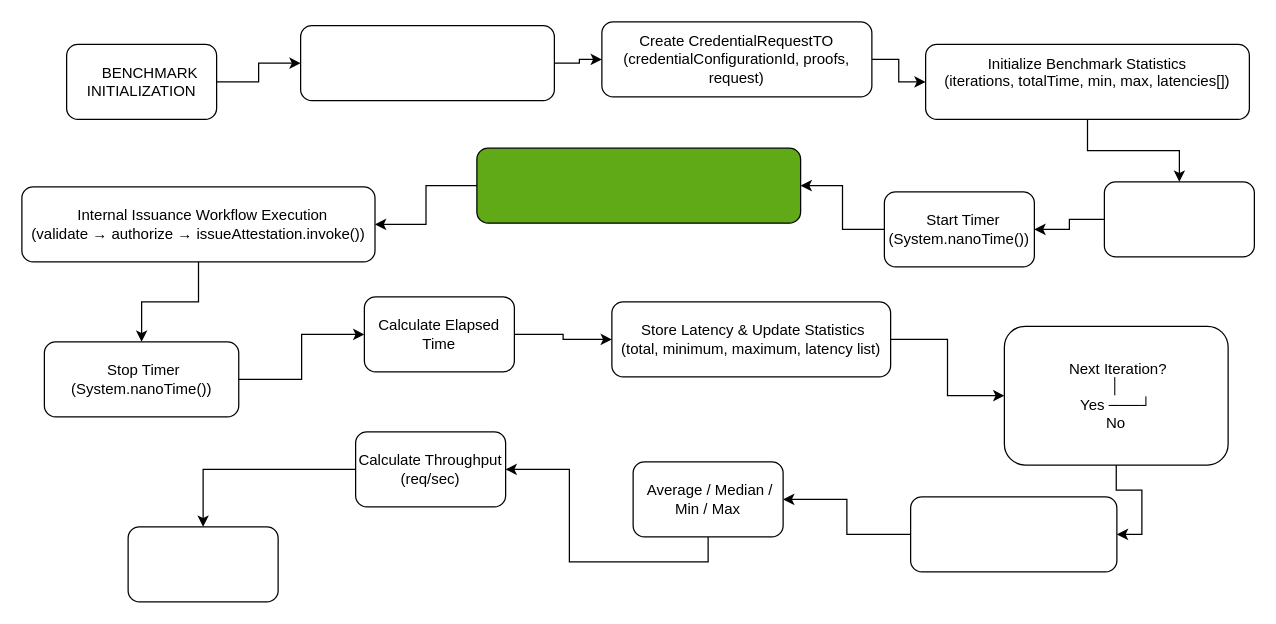
Some shapes in this 1276 by 624 pixel diagram are drawn without their labels. Here are the shapes that lost their labels. From the top down, the box of each, then its label:
(299, 24, 554, 101): Create Test AuthorizationContext (authorizationContext(), jwtProofString())
(476, 147, 801, 223): IssueCredential.fromPlainRequest(request, authContext)
(1103, 181, 1254, 257): Benchmark Loop (repeat(iterations))
(909, 496, 1117, 572): Statistical Analysis
(127, 526, 278, 602): Print Benchmark Results to Console
